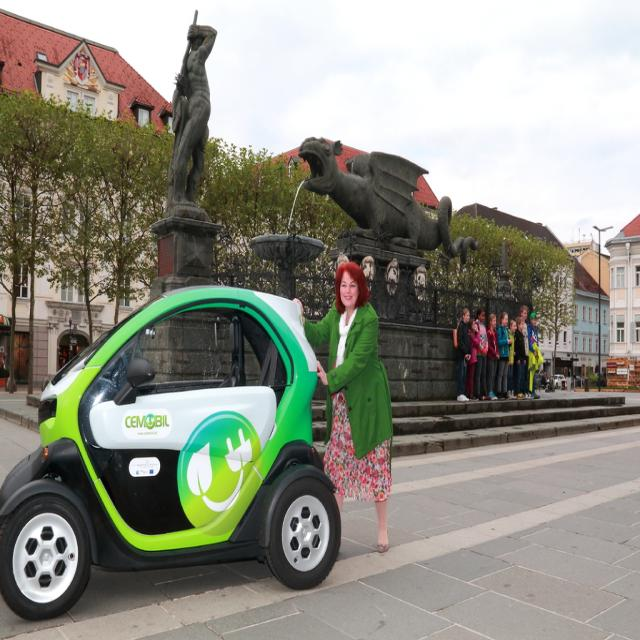car: (0, 284, 351, 620)
